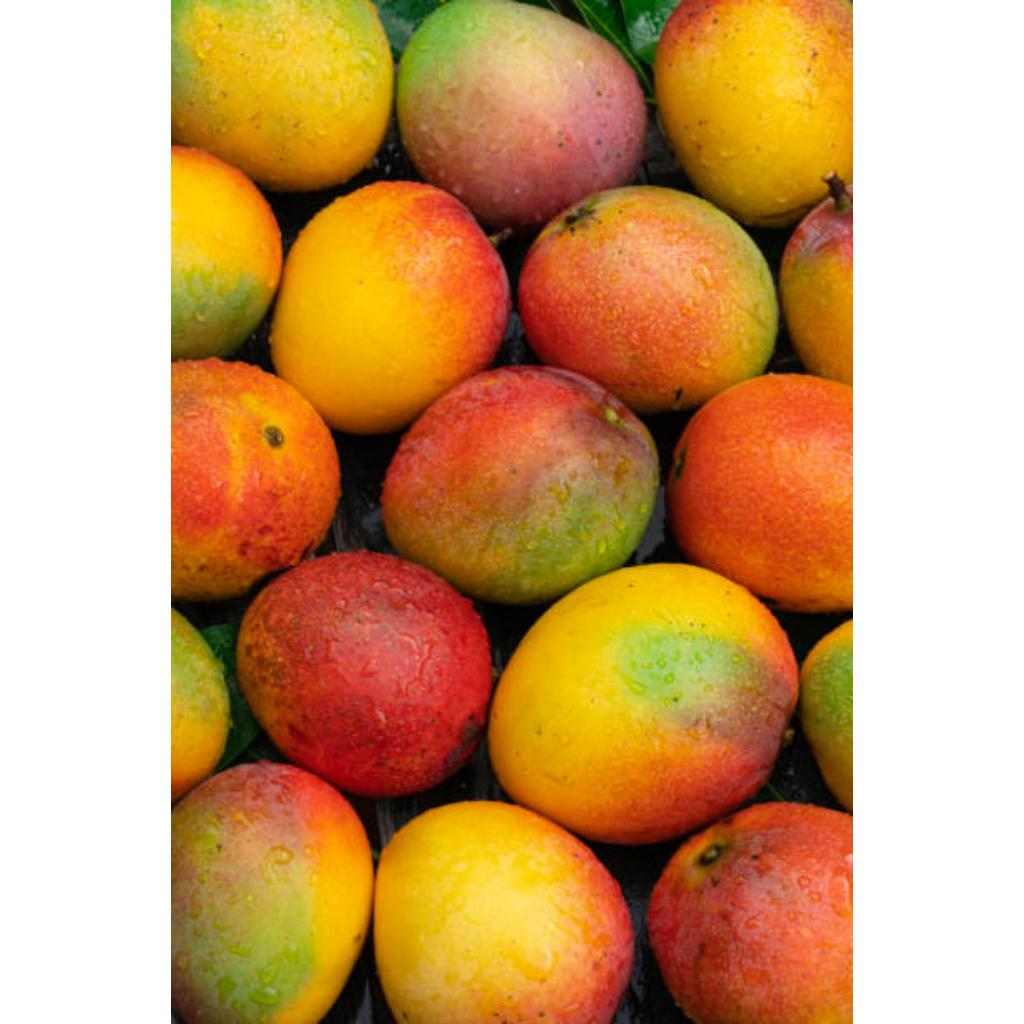mango: (489, 564, 799, 843), (381, 366, 659, 603), (237, 550, 493, 795), (271, 182, 511, 433), (519, 186, 779, 412), (375, 802, 635, 1024), (397, 0, 647, 227), (173, 760, 369, 1024), (649, 802, 853, 1024), (655, 0, 853, 227), (667, 374, 853, 611), (172, 0, 395, 191), (171, 360, 341, 600), (171, 146, 283, 359)
